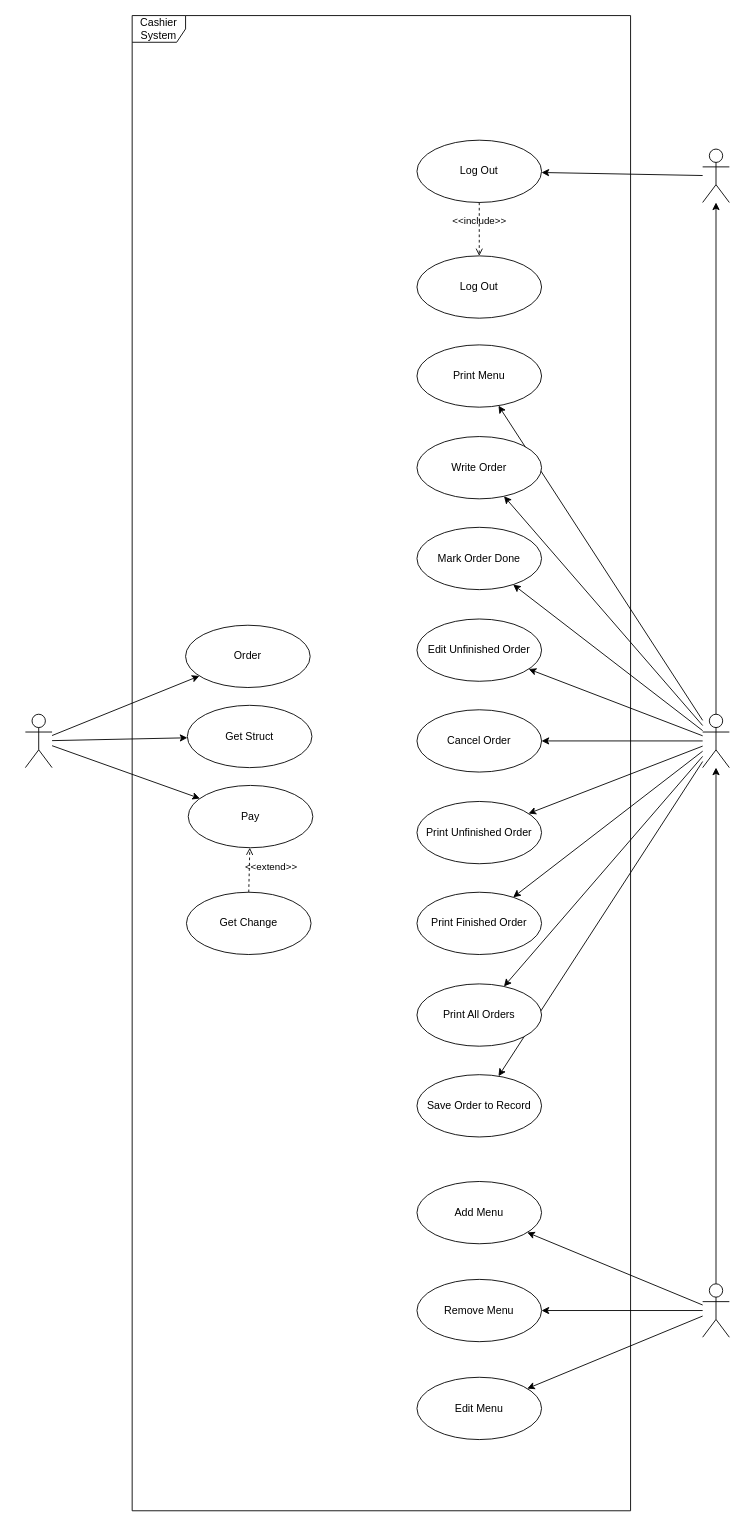
This 755x1526 diagram has some shape labels left out. The shapes that lost their labels are listed below. From the top down, each one's centre as x and y in pixels, then its label:
At (715,175): "Employee".
At (38,740): "Customer".
At (715,740): "Cashier".
At (715,1310): "Manager".
